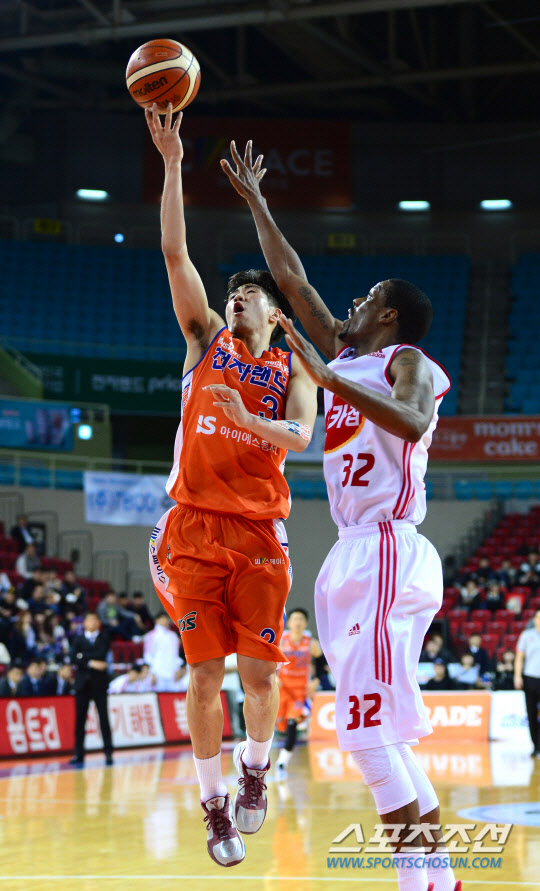defense: (203, 122, 491, 891)
shoot: (113, 13, 296, 875)
